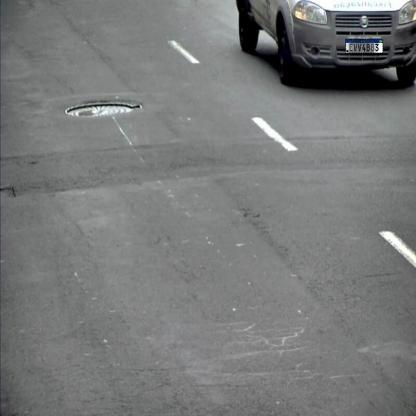PlacaM: (346, 39, 384, 53)
